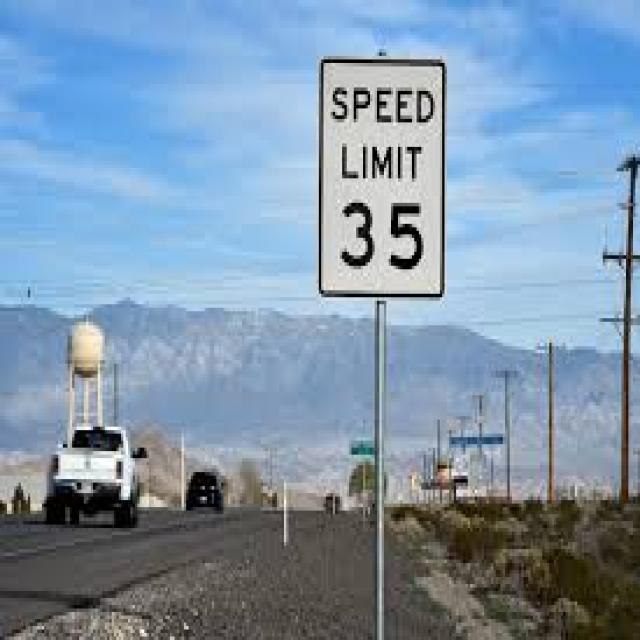speedLimit35: (318, 50, 443, 302)
